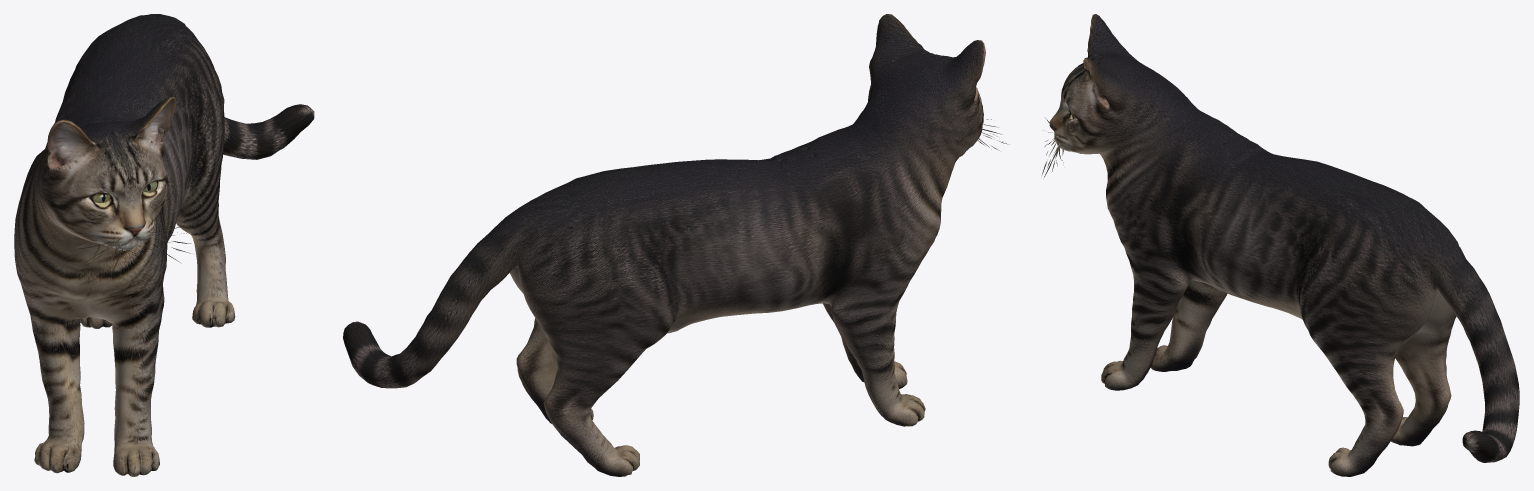
The model's file is schrodinger-cat.glb.
The picture shows the model from 3 angles, left to right: view 1: azimuth 30°, elevation 25°; view 2: azimuth 150°, elevation 25°; view 3: azimuth 270°, elevation 25°; orthographic projection. The views are drawn at different scales.
Parts seen in each view (by area): view 1: tripo_part_1, tripo_part_0, tripo_part_5, tripo_part_4, tripo_part_3, tripo_part_6, tripo_part_2; view 2: tripo_part_1, tripo_part_2, tripo_part_0, tripo_part_6, tripo_part_4, tripo_part_3; view 3: tripo_part_1, tripo_part_0, tripo_part_6, tripo_part_3, tripo_part_2, tripo_part_5, tripo_part_4.
Part boxes in pixels (x1,y1,x2,y2): tripo_part_1: (14, 15, 224, 329); tripo_part_0: (38, 96, 175, 250); tripo_part_5: (112, 294, 164, 476); tripo_part_4: (32, 319, 84, 473); tripo_part_3: (176, 183, 235, 327); tripo_part_6: (148, 14, 314, 159); tripo_part_2: (63, 84, 112, 328); tripo_part_1: (510, 118, 963, 333); tripo_part_2: (516, 244, 679, 476); tripo_part_0: (857, 14, 985, 155); tripo_part_6: (343, 201, 541, 388); tripo_part_4: (831, 302, 925, 426); tripo_part_3: (516, 318, 593, 423); tripo_part_1: (1099, 97, 1458, 360); tripo_part_0: (1049, 14, 1187, 154); tripo_part_6: (1423, 226, 1519, 462); tripo_part_3: (1314, 341, 1403, 476); tripo_part_2: (1390, 289, 1456, 446); tripo_part_5: (1101, 274, 1187, 390); tripo_part_4: (1150, 280, 1227, 371).
Size of the model in its own units: 1 by 0.7769 by 1.
Materials: 40 (40 with a texture image).
